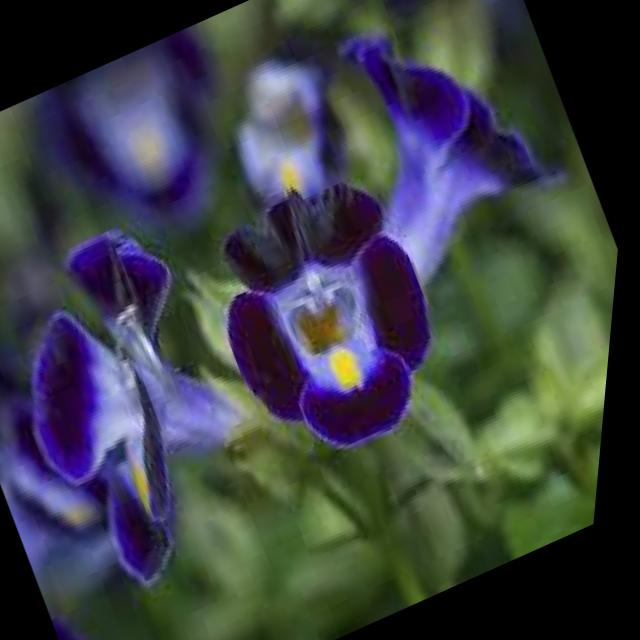Flower: (0, 193, 324, 624), (170, 141, 507, 479)
